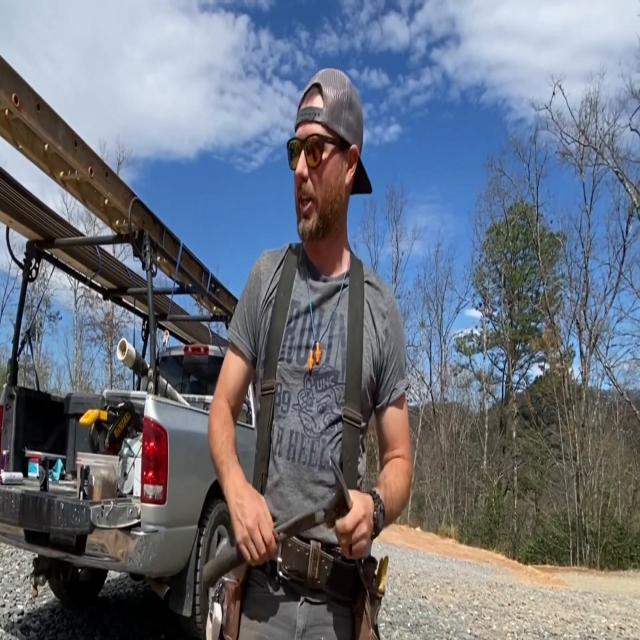hammer: (199, 446, 357, 592)
